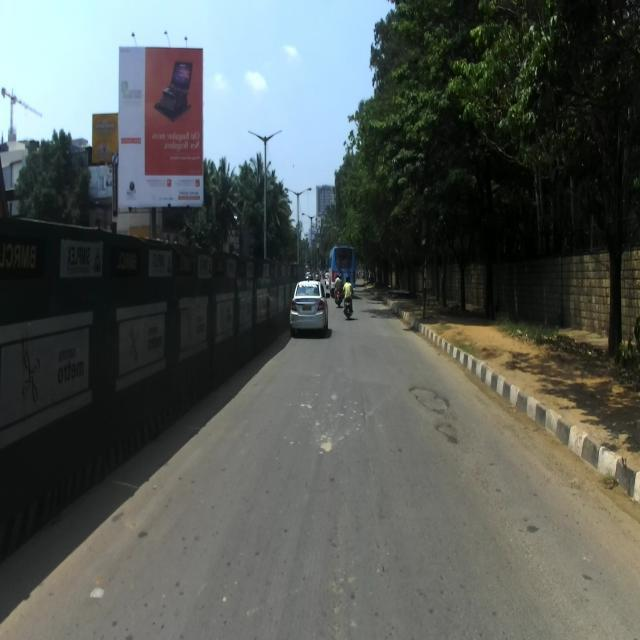Pothole: (402, 381, 450, 417)
